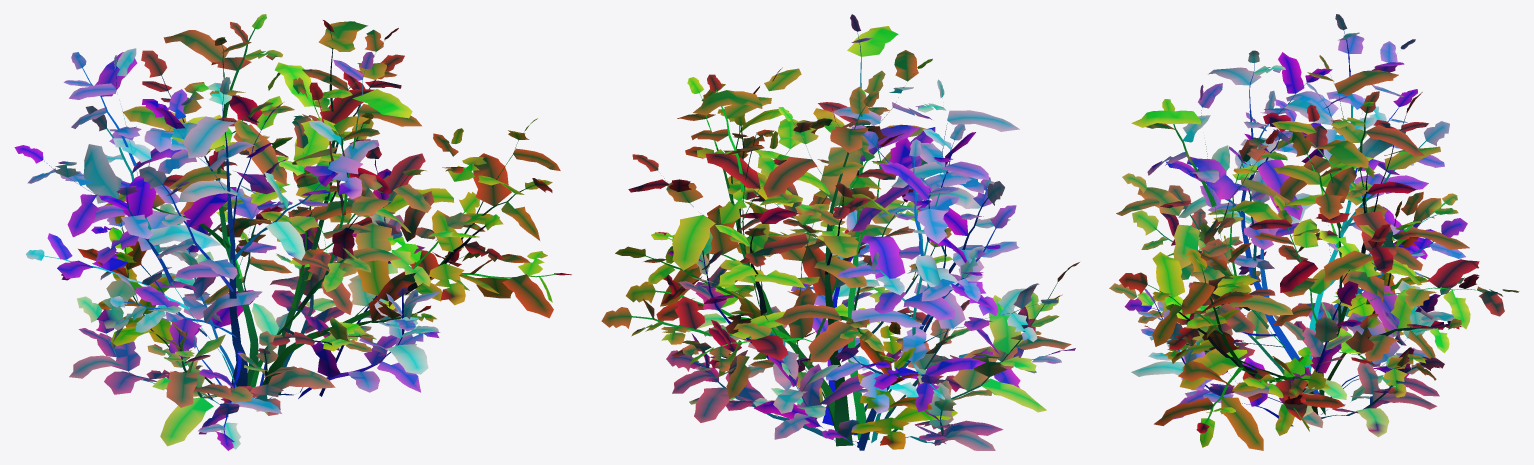
Rendered from Black_Locust_wdvhberja_Mid_wdvhberja_VarC_LOD2.fbx.
3 views of the same model, side by side, from view 1: azimuth 30°, elevation 25°; view 2: azimuth 150°, elevation 25°; view 3: azimuth 270°, elevation 25° (orthographic). The views are drawn at different scales.
Parts seen in each view (by area): view 1: _9mkn_VarC_LOD3; view 2: _9mkn_VarC_LOD3; view 3: _9mkn_VarC_LOD3.
Boxes of the visible parts, bbox=[...] form: _9mkn_VarC_LOD3: bbox=[14, 14, 571, 450]; _9mkn_VarC_LOD3: bbox=[601, 14, 1079, 450]; _9mkn_VarC_LOD3: bbox=[1109, 14, 1519, 450].
Bounding box in the file's own units: 182 × 148 × 155.
